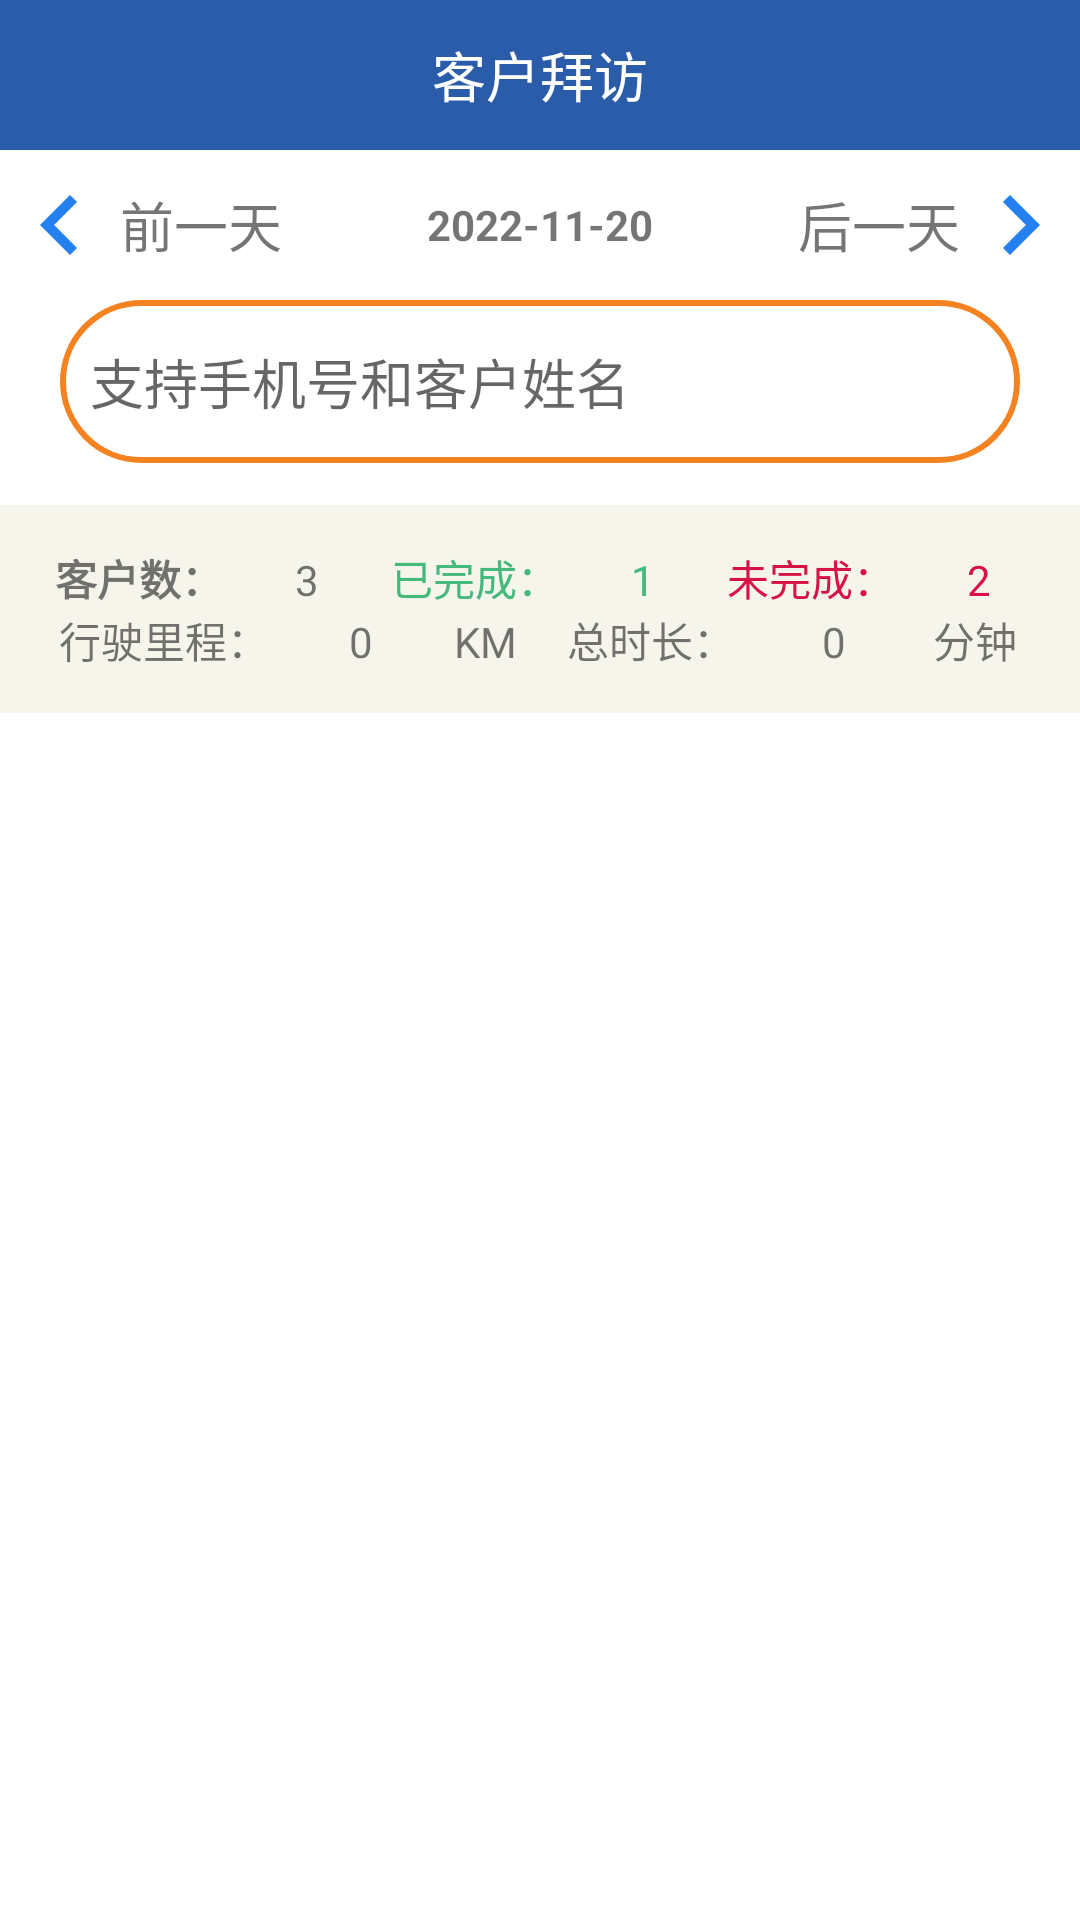

Icons on this 1080px×1920px Android screen, each with the point to tap as point (x, y):
chevron left: point (58, 225)
chevron right: point (1021, 225)
